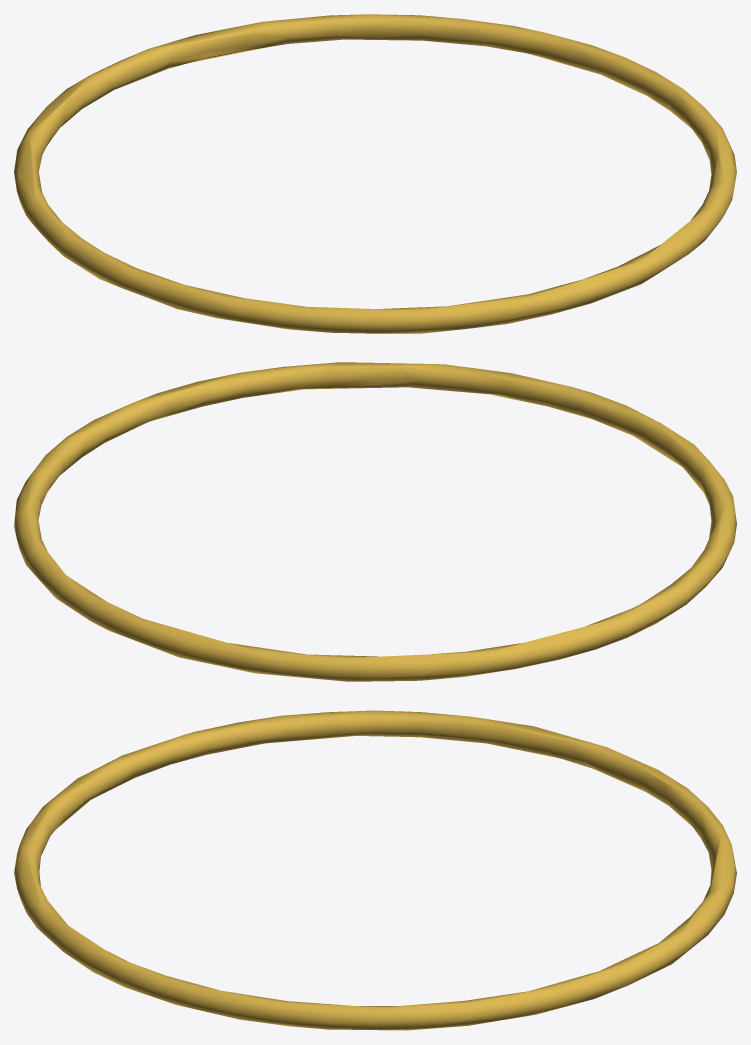
File: vong_giao.glb
3 views of the same model, one above another, from view 1: azimuth 30°, elevation 25°; view 2: azimuth 150°, elevation 25°; view 3: azimuth 270°, elevation 25° (orthographic).
Parts seen in each view (by area): view 1: vong_giao; view 2: vong_giao; view 3: vong_giao.
Part boxes in pixels (<box>): vong_giao: <box>14,14,736,333</box>; vong_giao: <box>14,362,736,681</box>; vong_giao: <box>14,710,736,1030</box>.
Size of the model in its own units: 0.58 by 0.0203 by 0.58.
